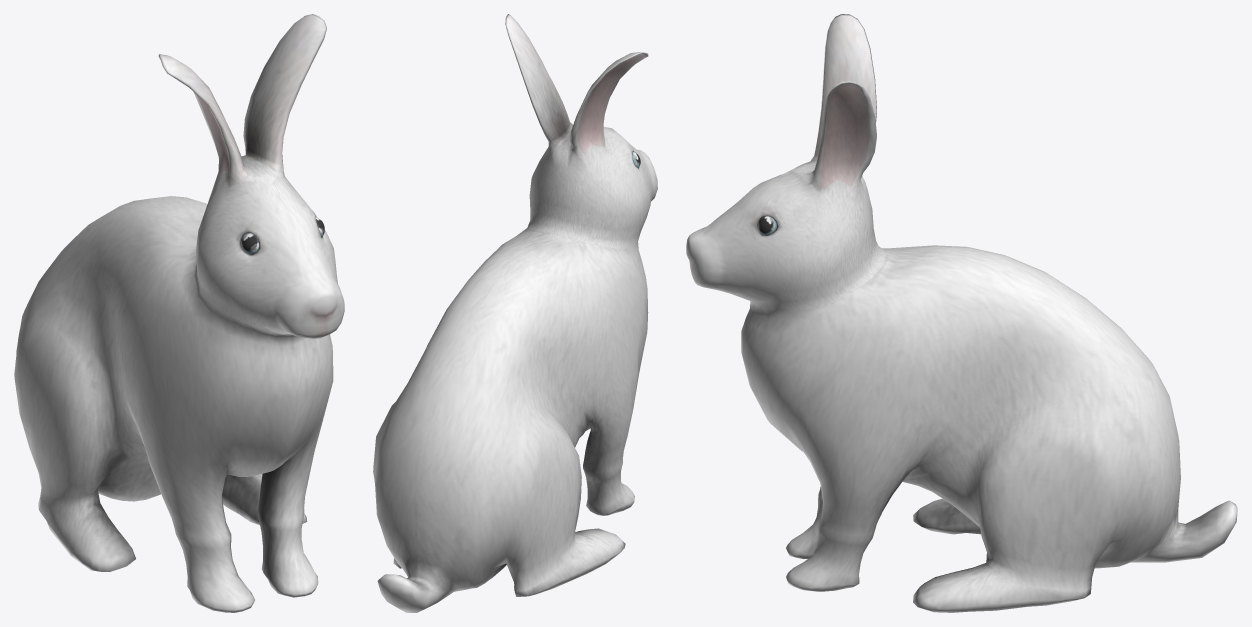
File: rabbitDraco.gltf
3 renders of one model, left to right at view 1: azimuth 30°, elevation 25°; view 2: azimuth 150°, elevation 25°; view 3: azimuth 270°, elevation 25°, orthographic. The views are drawn at different scales.
Visible parts, largest first — view 1: Plane; view 2: Plane; view 3: Plane.
Boxes of the visible parts, x1,y1,x2,y2 form: Plane: [14, 14, 344, 612]; Plane: [373, 14, 657, 612]; Plane: [686, 14, 1237, 612].
Size of the model in its own units: 17.88 by 42.91 by 41.3.
Materials: 1 (1 with a texture image).
